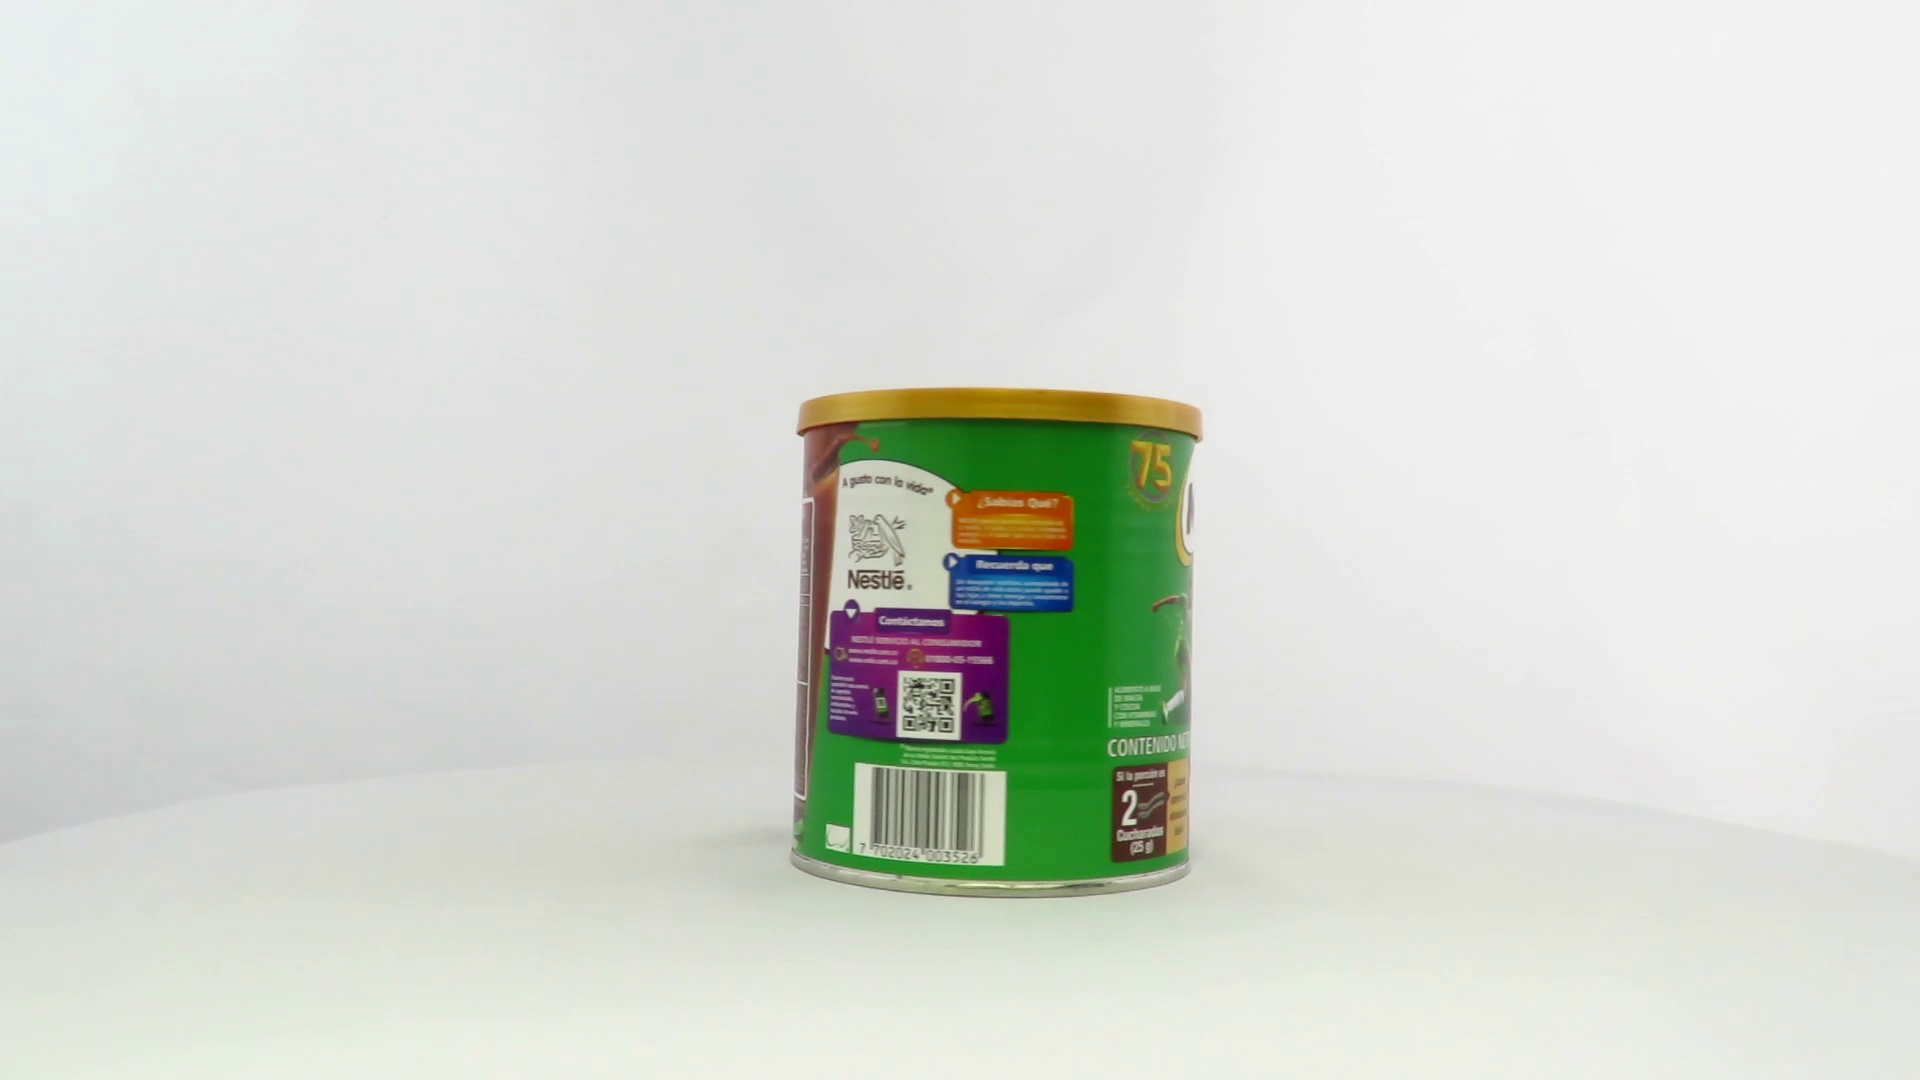COL0170203LAT40000: (785, 382, 1211, 905)
